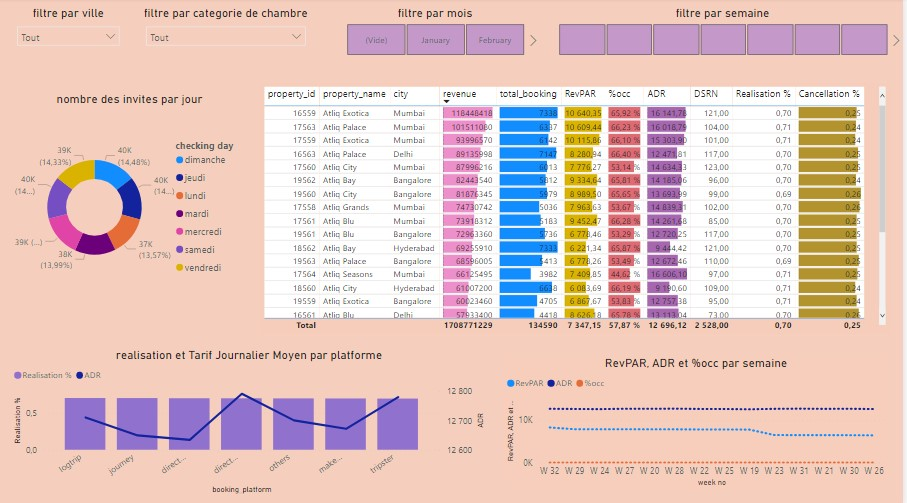

This screenshot's page, from the dashboard's own definition file:
{"tool":"powerbi","page":{"name":"ANALYSIS","canvas":[1280,720],"ordinal":1},"visuals":[{"type":"slicer","title":"filtre par ville","fields":{"Values":["dim_hotels.city"]},"box":[15,11.7,165,68.3],"z":2000},{"type":"slicer","title":"filtre par categorie de chambre","fields":{"Values":["dim_room.room_class"]},"box":[198.6,11.4,245.7,65.7],"z":3000},{"type":"lineStackedColumnComboChart","title":"realisation et Tarif Journalier Moyen par platforme","fields":{"Category":["fac_booking.booking_platform"],"Y":["key_measures_table.Realisation %"],"Y2":["key_measures_table.ADR"]},"box":[15.6,495.1,676.1,210.8],"z":4000},{"type":"tableEx","fields":{"Values":["dim_hotels.property_id","dim_hotels.property_name","dim_hotels.city","key_measures_table.revenue","key_measures_table.total_booking","key_measures_table.RevPAR","key_measures_table.%occ","key_measures_table.ADR","key_measures_table.DSRN","key_measures_table.Realisation %","key_measures_table.Cancellation %"]},"box":[369.2,120.2,889.7,356.5],"z":5000},{"type":"lineChart","title":"RevPAR, ADR et %occ par semaine","fields":{"Y":["key_measures_table.RevPAR","key_measures_table.ADR","key_measures_table.%occ"],"Category":["dim_date.week no"]},"box":[712.9,506.4,546,189.5],"z":8000},{"type":"slicer","title":"filtre par semaine ","fields":{"Values":["dim_date.week no"]},"box":[766.2,11.2,513.8,76.2],"z":9000},{"type":"slicer","title":"filtre par mois ","fields":{"Values":["dim_date.date.Variation.Date Hierarchy.Month"]},"box":[466.2,11.2,300,76.2],"z":10000},{"type":"donutChart","title":"nombre des invites par jour","fields":{"Series":["fac_booking.chackin day"],"Y":["Sum(fac_booking.no_guests)"]},"box":[15.6,133,338.1,307],"z":11000}]}

Visuals, with their boxes in screenshot pixels (x1, y1, x2, y2), scaled from the page's 1280x720 canvas onto the 907x503 screenshot:
"filtre par ville" slicer: bbox=(11, 8, 128, 56)
"filtre par categorie de chambre" slicer: bbox=(141, 8, 315, 54)
"realisation et Tarif Journalier Moyen par platforme" lineStackedColumnComboChart: bbox=(11, 346, 490, 493)
tableEx - dim_hotels.property_id x dim_hotels.property_name: bbox=(262, 84, 892, 333)
"RevPAR, ADR et %occ par semaine" lineChart: bbox=(505, 354, 892, 486)
"filtre par semaine " slicer: bbox=(543, 8, 906, 61)
"filtre par mois " slicer: bbox=(330, 8, 543, 61)
"nombre des invites par jour" donutChart: bbox=(11, 93, 251, 307)
